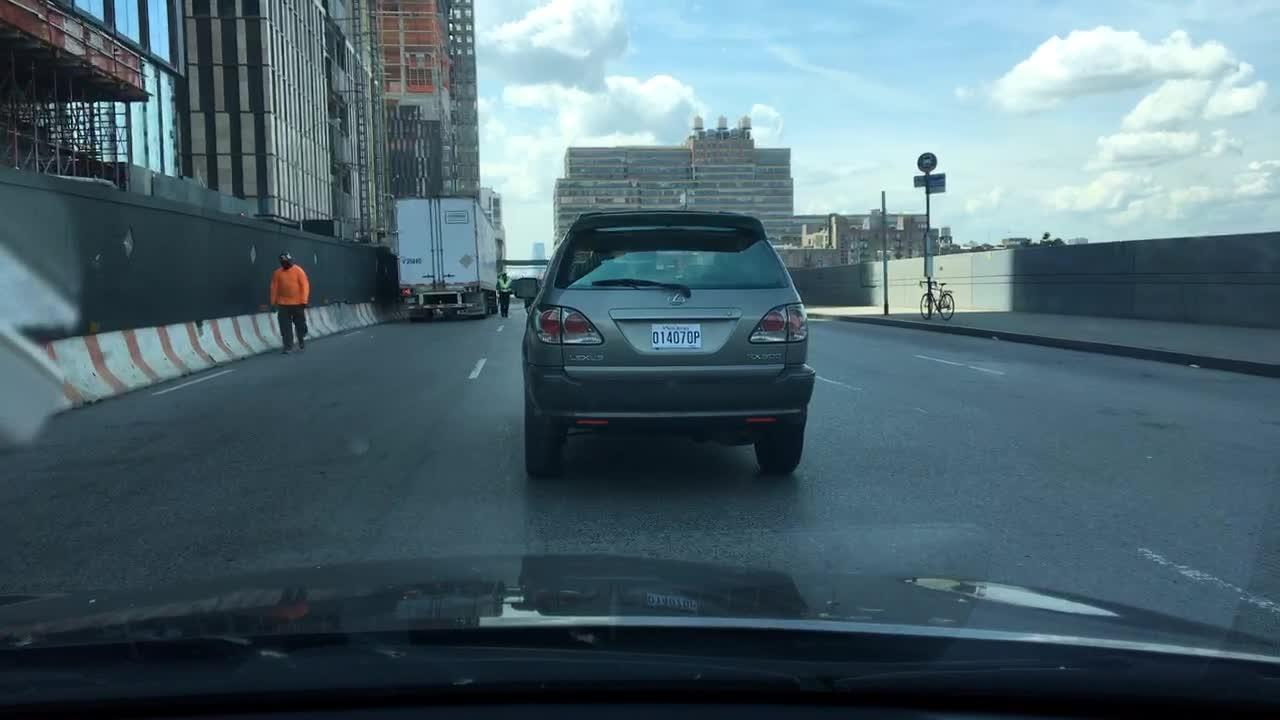lexus: (660, 287, 690, 310)
